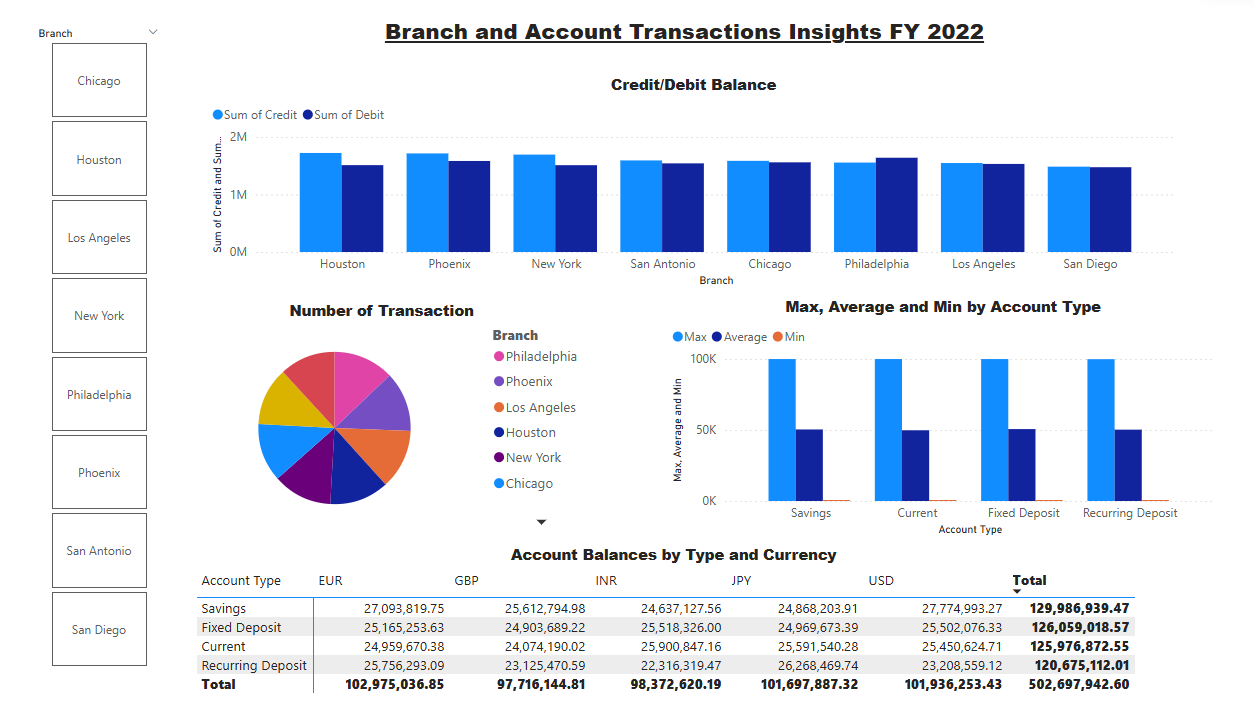

This screenshot's page, from the dashboard's own definition file:
{"tool":"powerbi","page":{"name":"Page 1","canvas":[1280,720],"ordinal":0},"visuals":[{"type":"pivotTable","title":"Account Balances by Type and Currency","fields":{"Rows":["AccountType_Balance.Account Type"],"Values":["Sum(AccountType_Balance.Total_Balance)"],"Columns":["AccountType_Balance.Currency"]},"box":[204,549,964,171],"z":0},{"type":"slicer","fields":{"Values":["Branch_Debit_Credit.Branch"]},"box":[38,27,145,651],"z":1000},{"type":"lineClusteredColumnComboChart","fields":{"Category":["Balance_Stats.Account Type"],"Y":["Max(Balance_Stats.Max_Balance)","Sum(Balance_Stats.Avg_Balance)","Sum(Balance_Stats.Min_Balance)"]},"box":[679,301,553,244],"z":2000},{"type":"pieChart","title":"Number of Transaction","fields":{"Category":["Branch_Transaction_Count.Branch"],"Y":["Sum(Branch_Transaction_Count.Transaction_Count)"]},"box":[183,305,422,235],"z":3000},{"type":"clusteredColumnChart","title":"Credit/Debit Balance ","fields":{"Category":["Branch_Debit_Credit.Branch"],"Y":["Sum(Branch_Debit_Credit.Credit)","Sum(Branch_Debit_Credit.Debit)"]},"box":[219,79,974,217],"z":4000},{"type":"textbox","box":[382,16,630,63],"z":4001}]}

Visuals, with their boxes on the page's 1280x720 design canvas (x1, y1, x2, y2). These are canvas units, not pixel positions in the 1254x712 screenshot, which may show the page scaled, cropped or inside an application window:
"Account Balances by Type and Currency" pivotTable: (left=204, top=549, right=1168, bottom=720)
slicer - Branch_Debit_Credit.Branch: (left=38, top=27, right=183, bottom=678)
lineClusteredColumnComboChart - Balance_Stats.Account Type x Max(Balance_Stats.Max_Balance): (left=679, top=301, right=1232, bottom=545)
"Number of Transaction" pieChart: (left=183, top=305, right=605, bottom=540)
"Credit/Debit Balance " clusteredColumnChart: (left=219, top=79, right=1193, bottom=296)
textbox: (left=382, top=16, right=1012, bottom=79)
